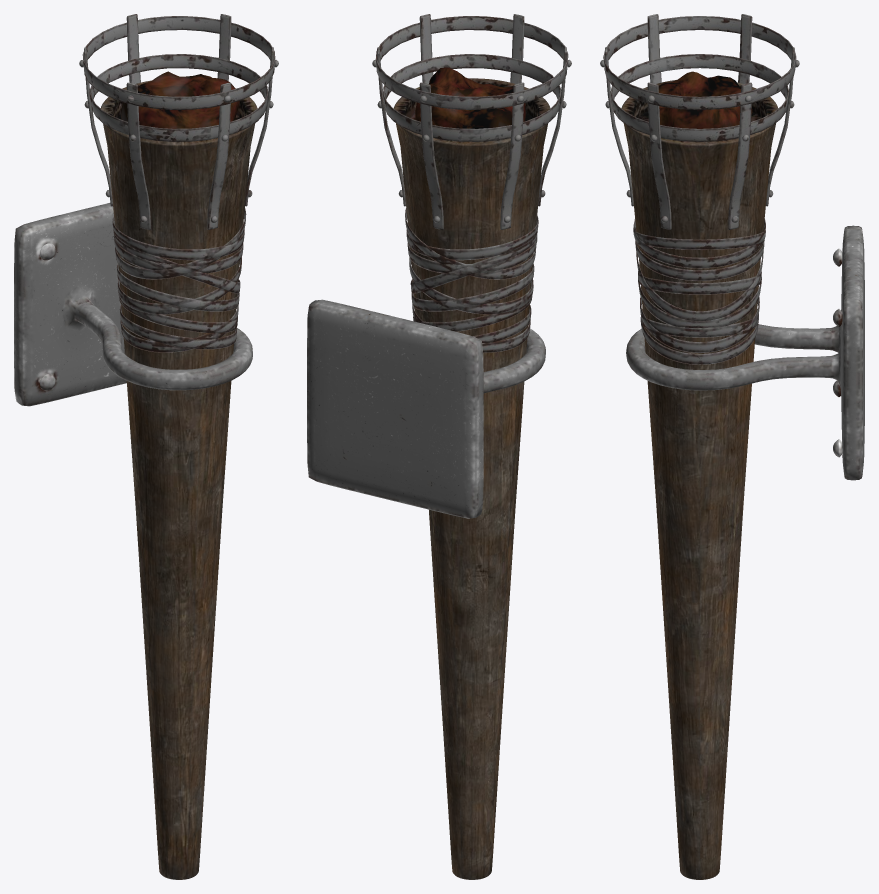
File: wall_torch.glb
3 renders of one model, left to right at view 1: azimuth 30°, elevation 25°; view 2: azimuth 150°, elevation 25°; view 3: azimuth 270°, elevation 25°, orthographic.
Parts seen in each view (by area): view 1: Torch, Metal Cage, Metal Plate, Fire Wood; view 2: Torch, Metal Plate, Metal Cage, Fire Wood; view 3: Torch, Metal Cage, Metal Plate, Fire Wood.
Boxes of the visible parts, x1=… form: Torch: x1=100, y1=80, x2=257, y2=879; Metal Cage: x1=79, y1=14, x2=278, y2=352; Metal Plate: x1=14, y1=203, x2=252, y2=406; Fire Wood: x1=121, y1=71, x2=239, y2=128; Torch: x1=393, y1=78, x2=550, y2=879; Metal Plate: x1=307, y1=299, x2=545, y2=518; Metal Cage: x1=372, y1=14, x2=571, y2=352; Fire Wood: x1=415, y1=67, x2=525, y2=128; Torch: x1=621, y1=80, x2=778, y2=879; Metal Cage: x1=600, y1=14, x2=799, y2=364; Metal Plate: x1=626, y1=225, x2=864, y2=480; Fire Wood: x1=648, y1=71, x2=752, y2=128.
Bounding box in the file's own units: 0.1488 × 0.6813 × 0.1987.
4 materials, 4 textured.
